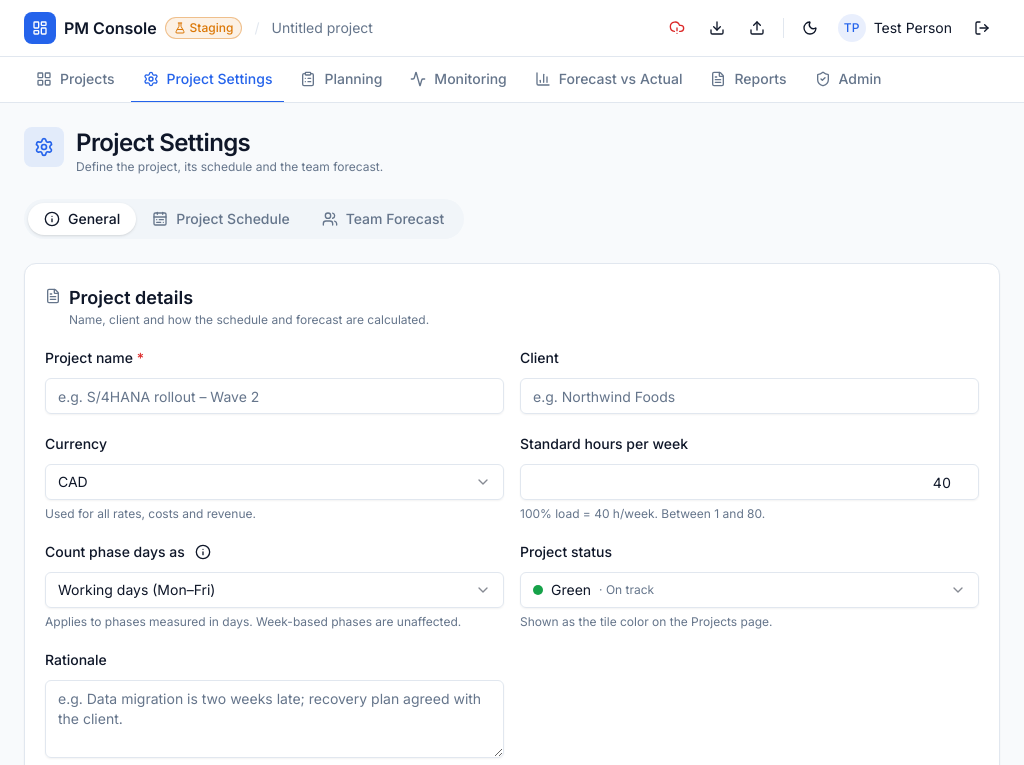
Test: Project details form › saves to the store, shows a toast and updates the top bar
Type "  Wave 2 rollout " into the field labelled "Project name *" at x=274, y=396, box [45, 378, 504, 414]
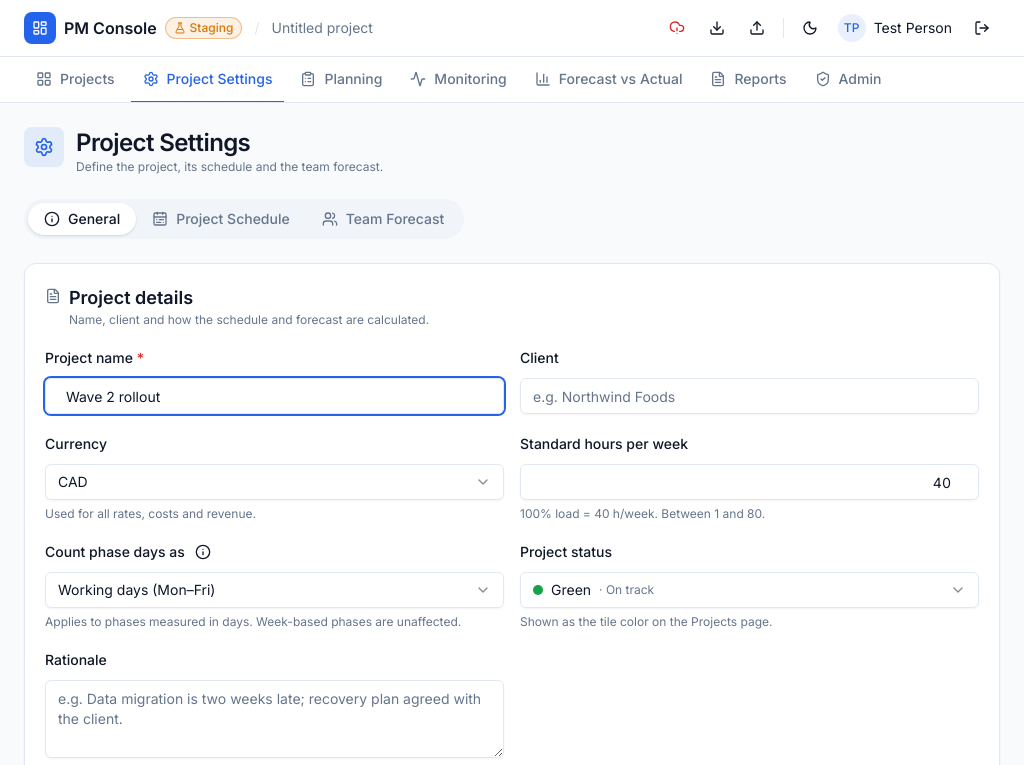
Type "Northwind" into the field labelled "Client" at x=750, y=396, box [520, 378, 979, 414]
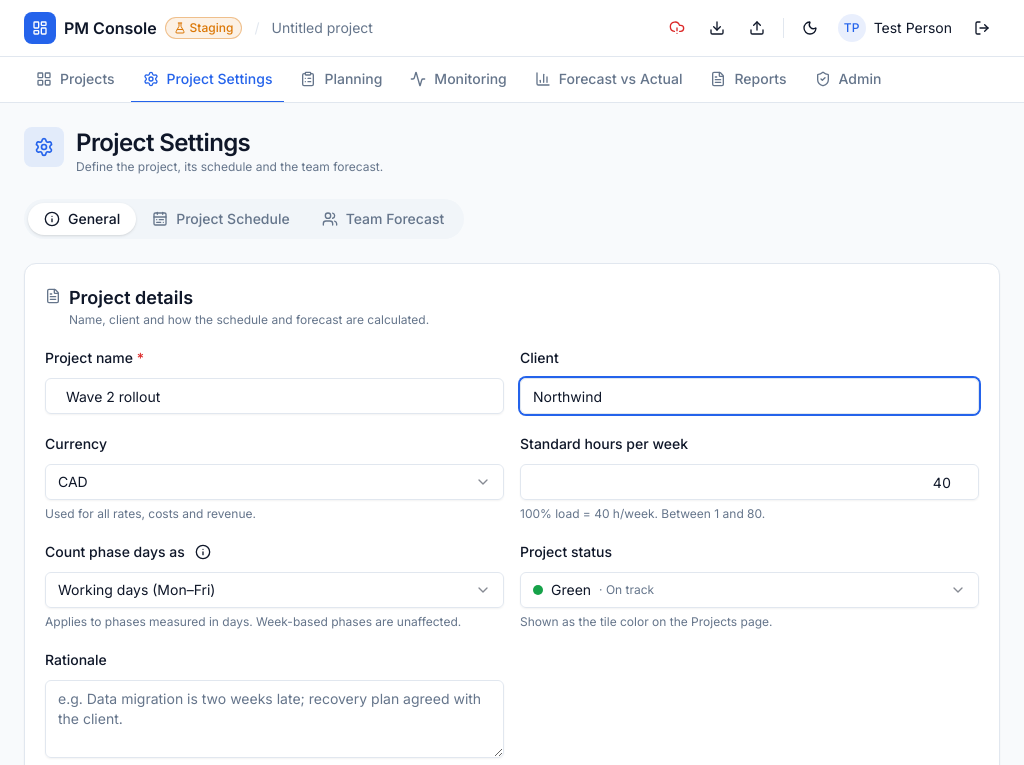
Replace the text in the number field labelled "Standard hours per week" with "37.5" at x=750, y=482, box [520, 464, 979, 500]
(page scrolled)
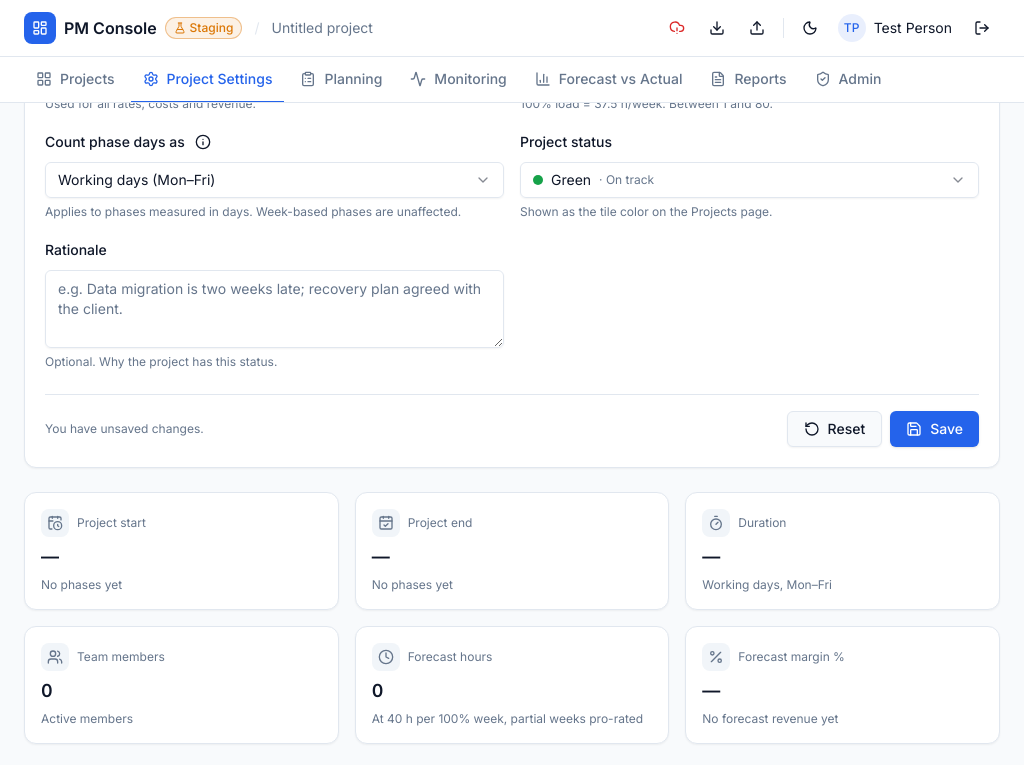
Click the button "Save" at x=935, y=429, box [890, 411, 979, 447]
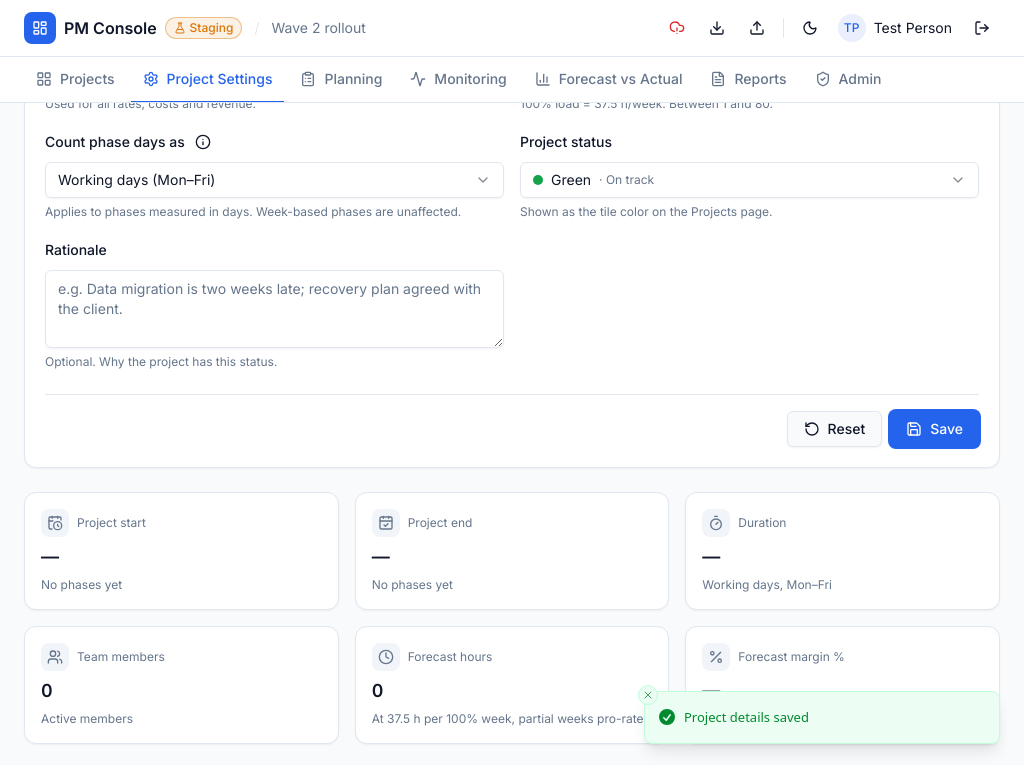
Check: the text "Project details saved" is shown, box [684, 708, 809, 727]
Check: the text titled "Current project" reads "Wave 2 rollout", box [272, 19, 366, 36]
